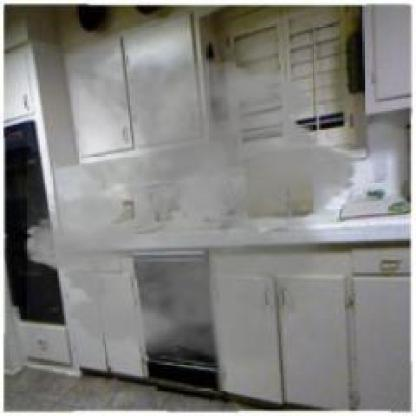Smoke: (14, 34, 367, 373)
